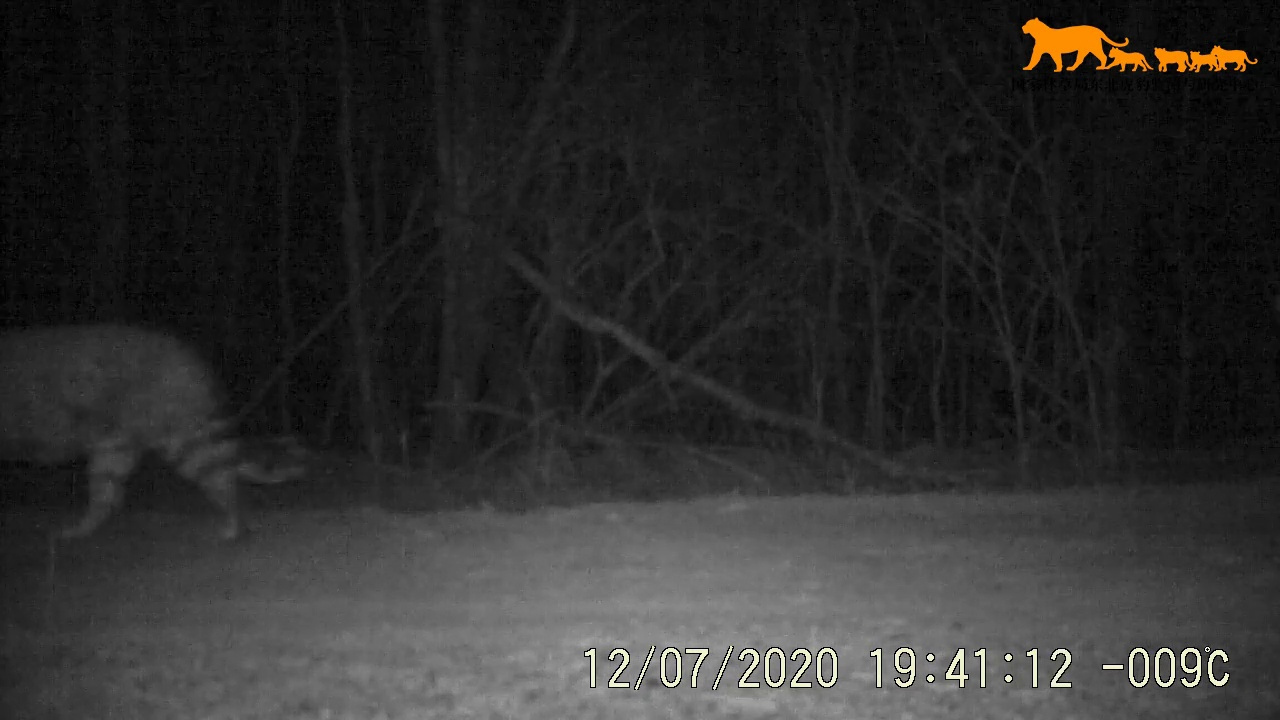Tiger: (1, 294, 362, 543)
